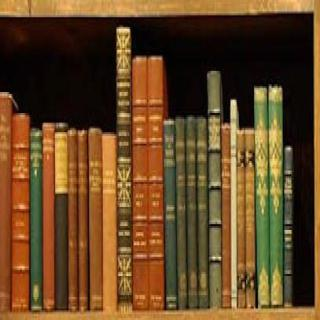book-spine: (132, 62, 149, 309), (117, 29, 132, 307), (150, 56, 164, 312), (208, 75, 223, 310), (13, 113, 29, 310), (270, 88, 284, 306), (87, 132, 102, 310), (55, 124, 69, 314), (103, 136, 118, 308), (258, 83, 269, 308), (0, 88, 11, 310), (30, 128, 43, 308), (43, 122, 55, 310), (164, 121, 176, 307), (77, 130, 89, 310), (198, 115, 209, 308), (188, 119, 199, 309), (177, 119, 187, 309), (221, 123, 231, 310), (68, 126, 77, 312), (247, 129, 256, 308), (284, 150, 294, 301), (232, 98, 239, 308), (238, 129, 246, 299)
